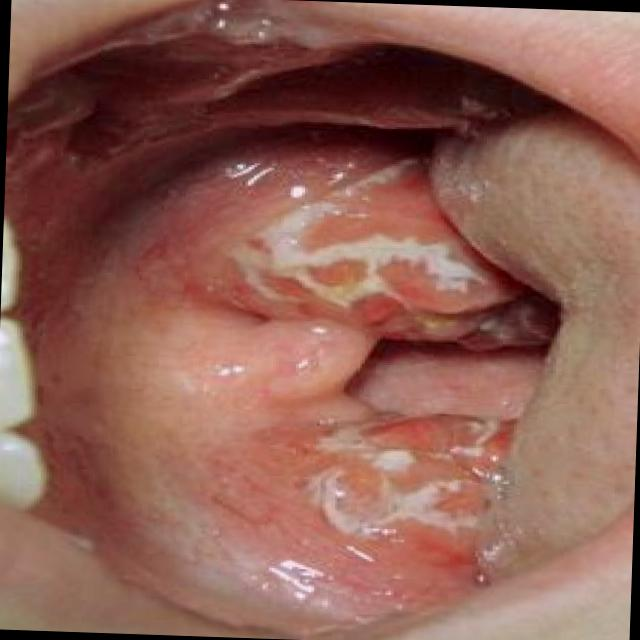pharyngitis: (109, 131, 534, 358), (229, 408, 508, 595)
